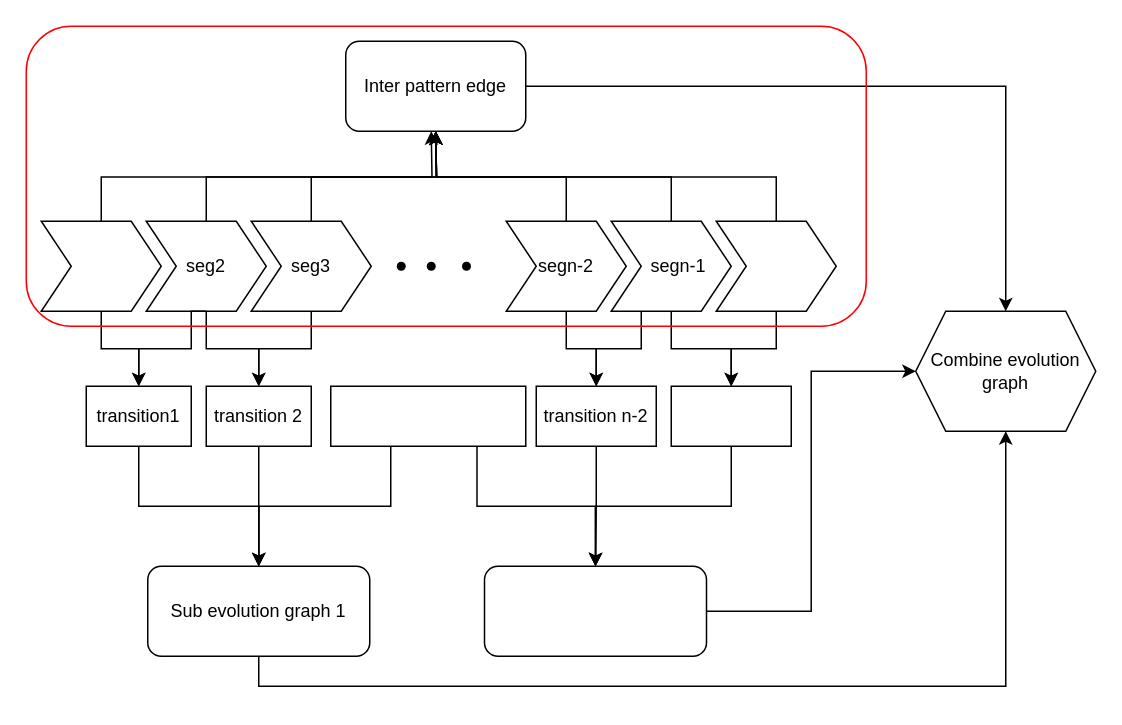
Image size: 1122x725. Some labels were removed from this diagram. The box of each missing label's shape, as (x1, y1, x2, y2) in pixels:
seg1: (40, 220, 161, 311)
segn: (715, 220, 836, 311)
Sub evolution graph 2: (483, 565, 706, 656)
transition 3...n-3: (329, 385, 526, 446)
transition n-1: (670, 385, 791, 446)
